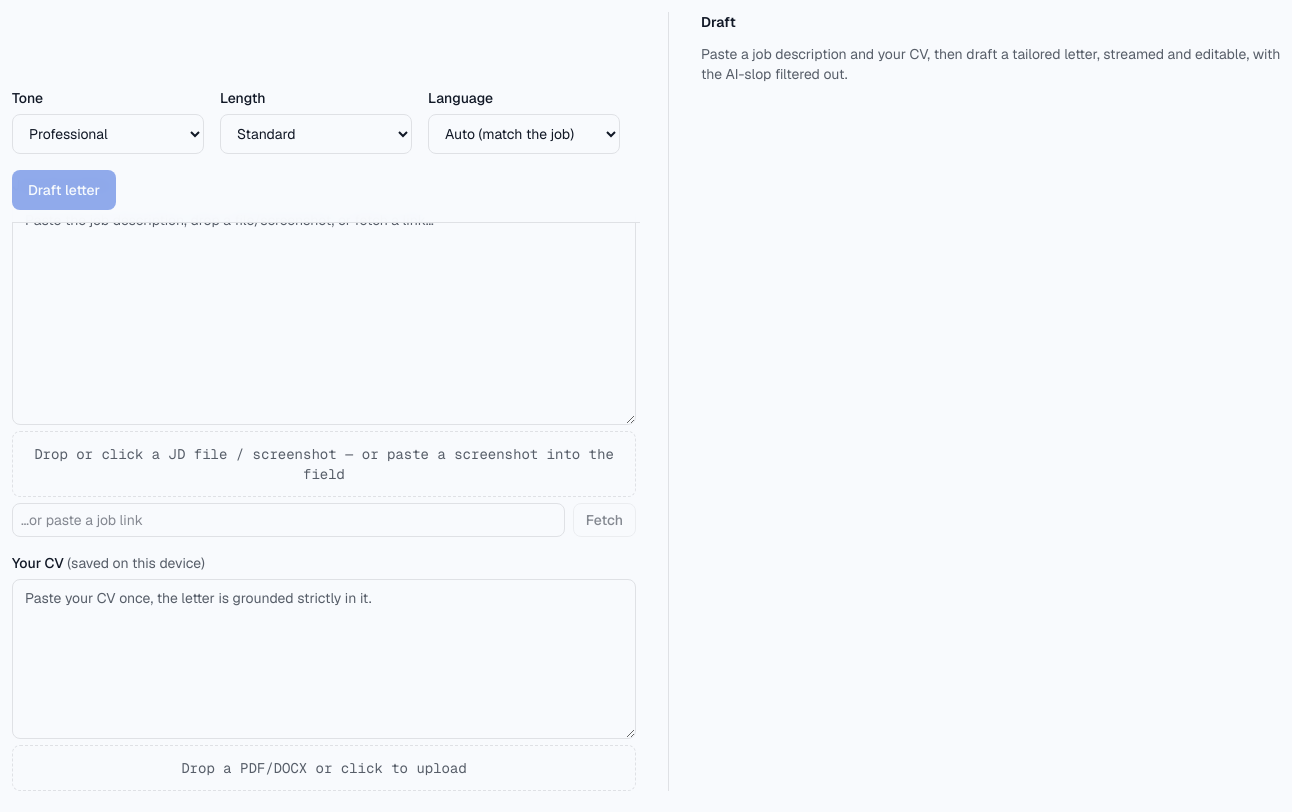
Test: CoverLetterView › keeps the draft button disabled until the JD is long enough
This screenshot has width=1292, height=812.
Expected: the button "Draft letter" is disabled, [12,170,116,210]
Replace the text in the text box labelled "Job description" with "Senior React engineer building streaming AI interfaces on Next.js and AWS." at (324, 313), box [12,201,636,425]
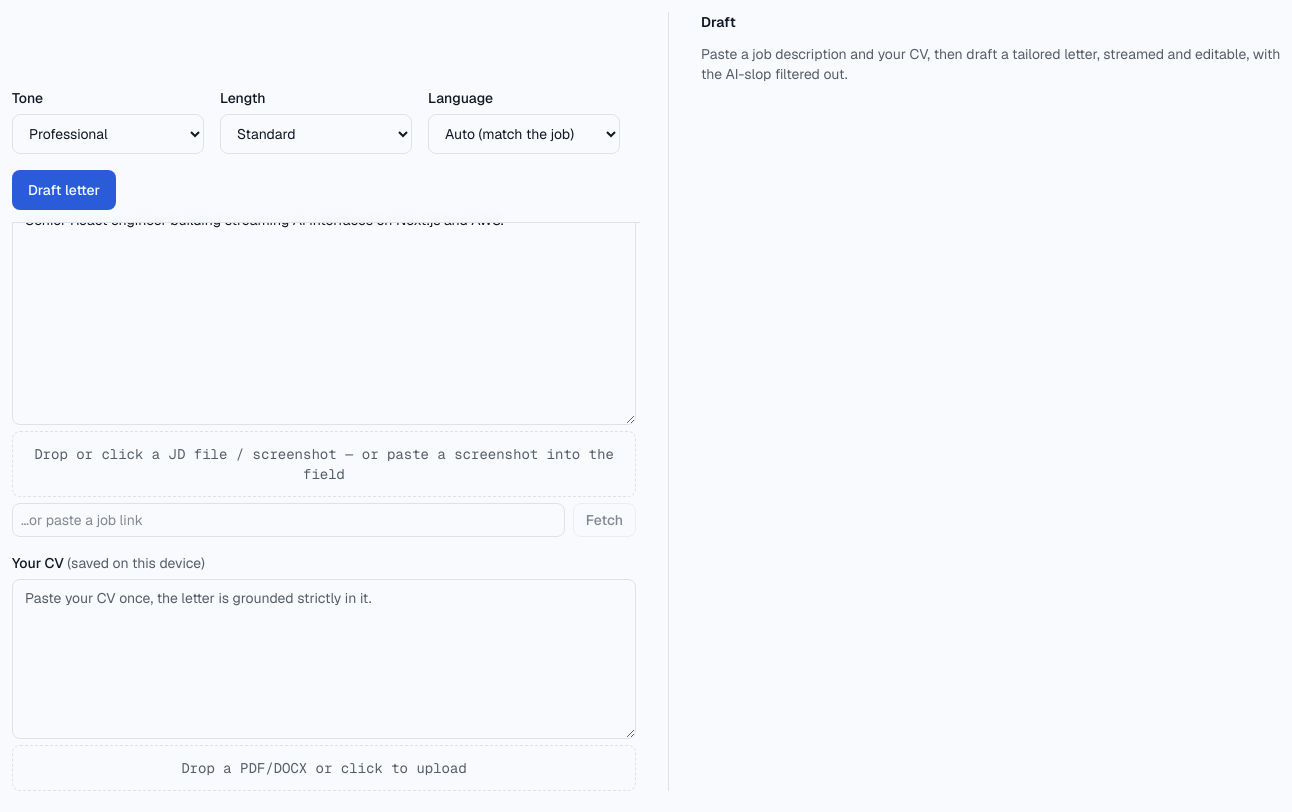
Now the button "Draft letter" is enabled, box [12,170,116,210]
